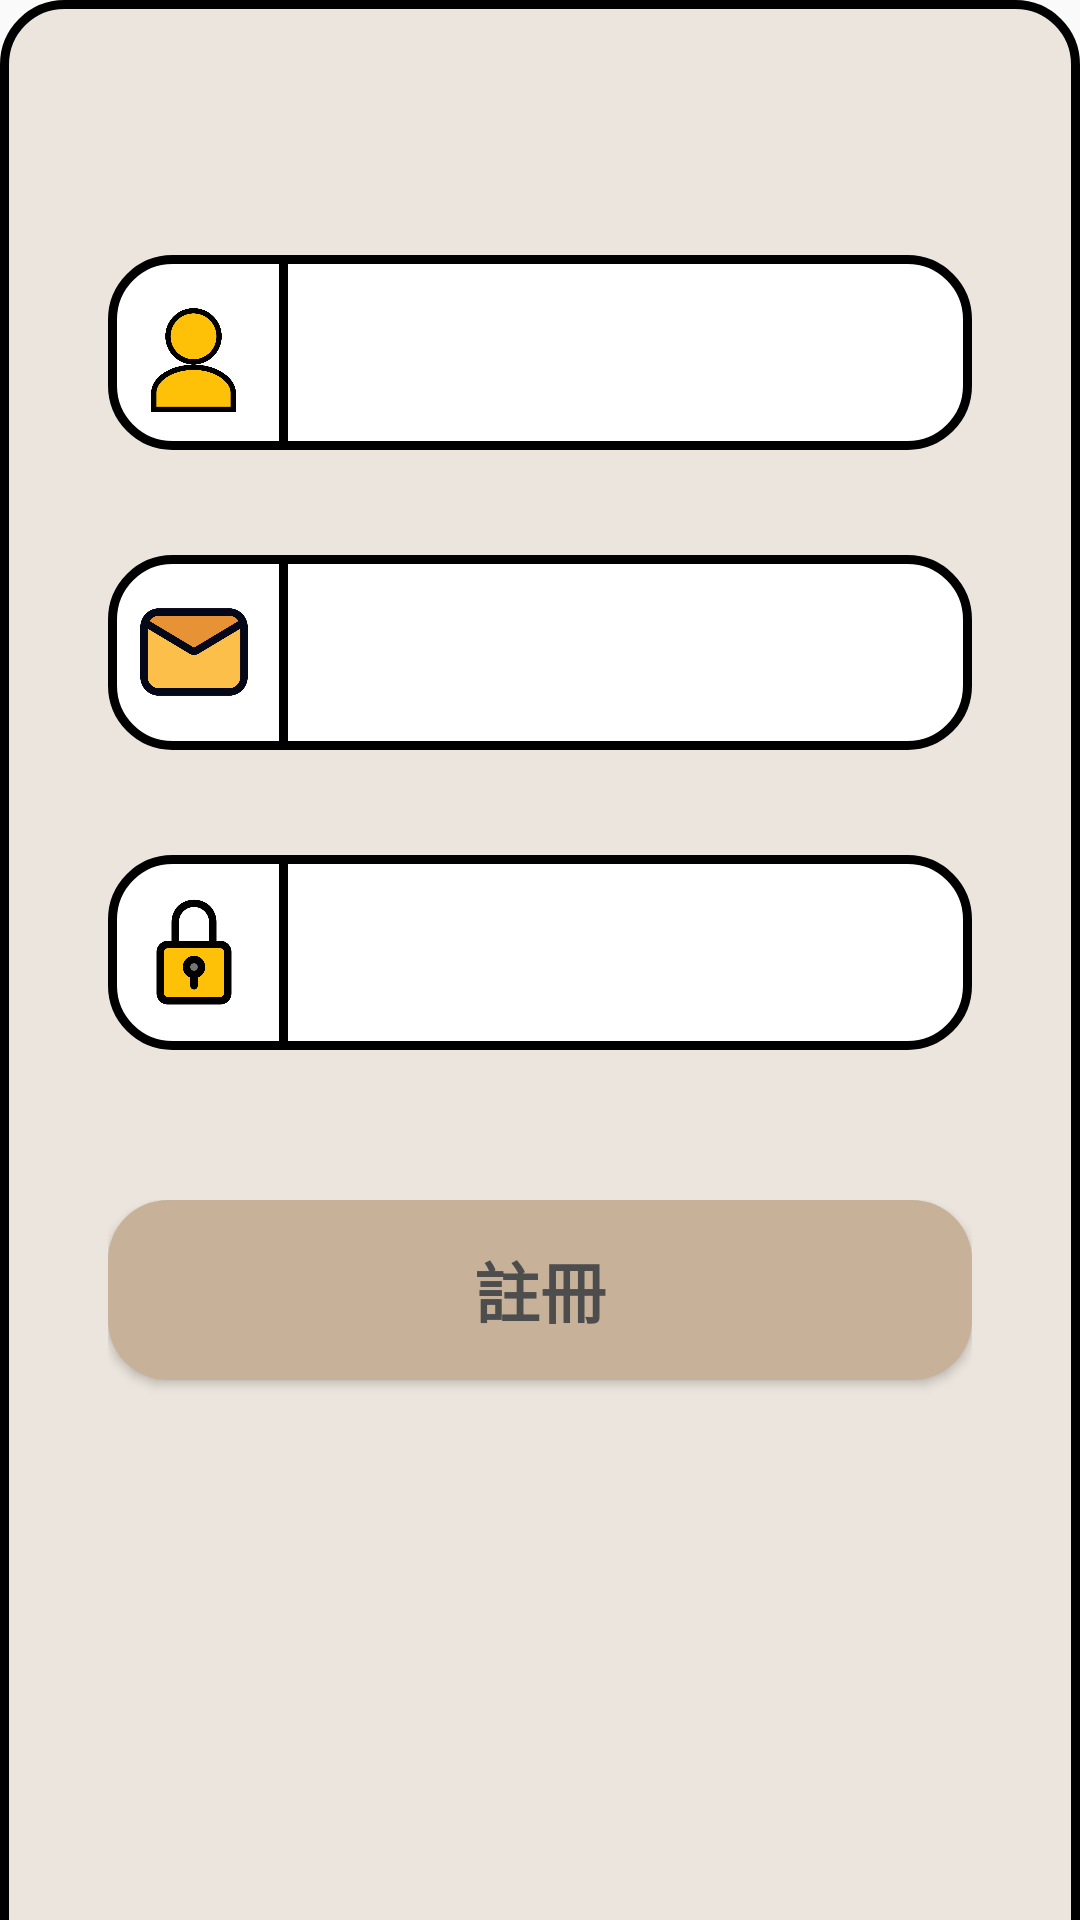

Point at icon controls on the screen. Image size 1080*1920, points as (x,y).
email: (193,652)
lock: (193,952)
user: (193,352)
